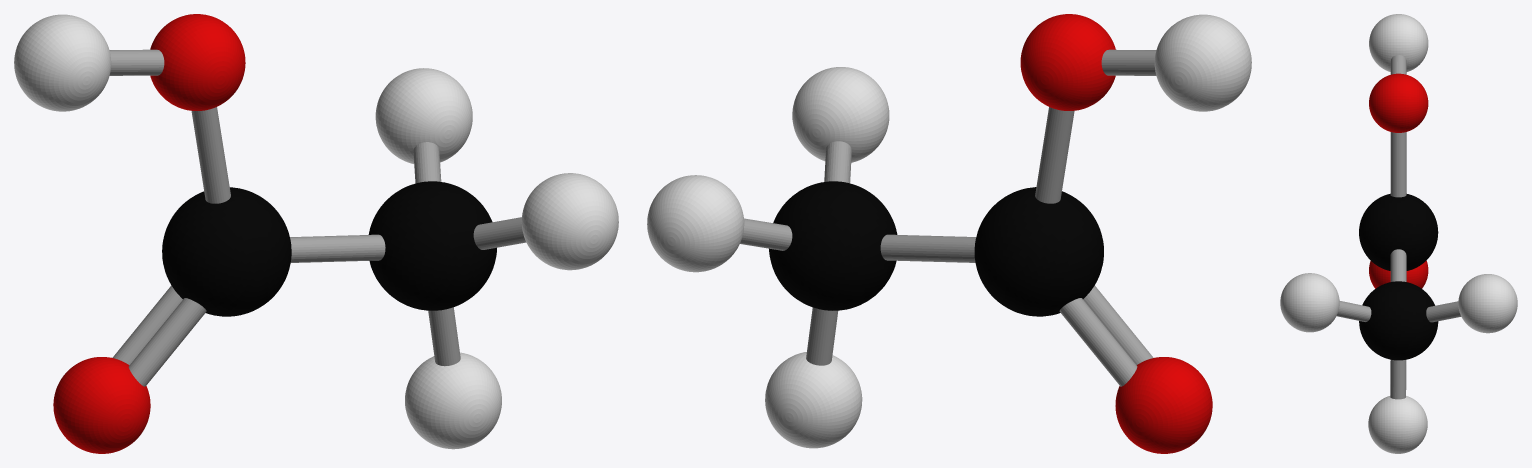
Rendered from SodiumAcetate.glb.
3 views of the same model, side by side, from view 1: azimuth 30°, elevation 25°; view 2: azimuth 150°, elevation 25°; view 3: azimuth 270°, elevation 25° (orthographic). The views are drawn at different scales.
Visible parts, largest first — view 1: world; view 2: world; view 3: world.
Part boxes in pixels (left/top/right/bottom): world: left=14, top=14, right=618, bottom=453; world: left=647, top=14, right=1251, bottom=453; world: left=1280, top=14, right=1517, bottom=453.
Size of the model in its own units: 3.7 by 3.54 by 2.4.
